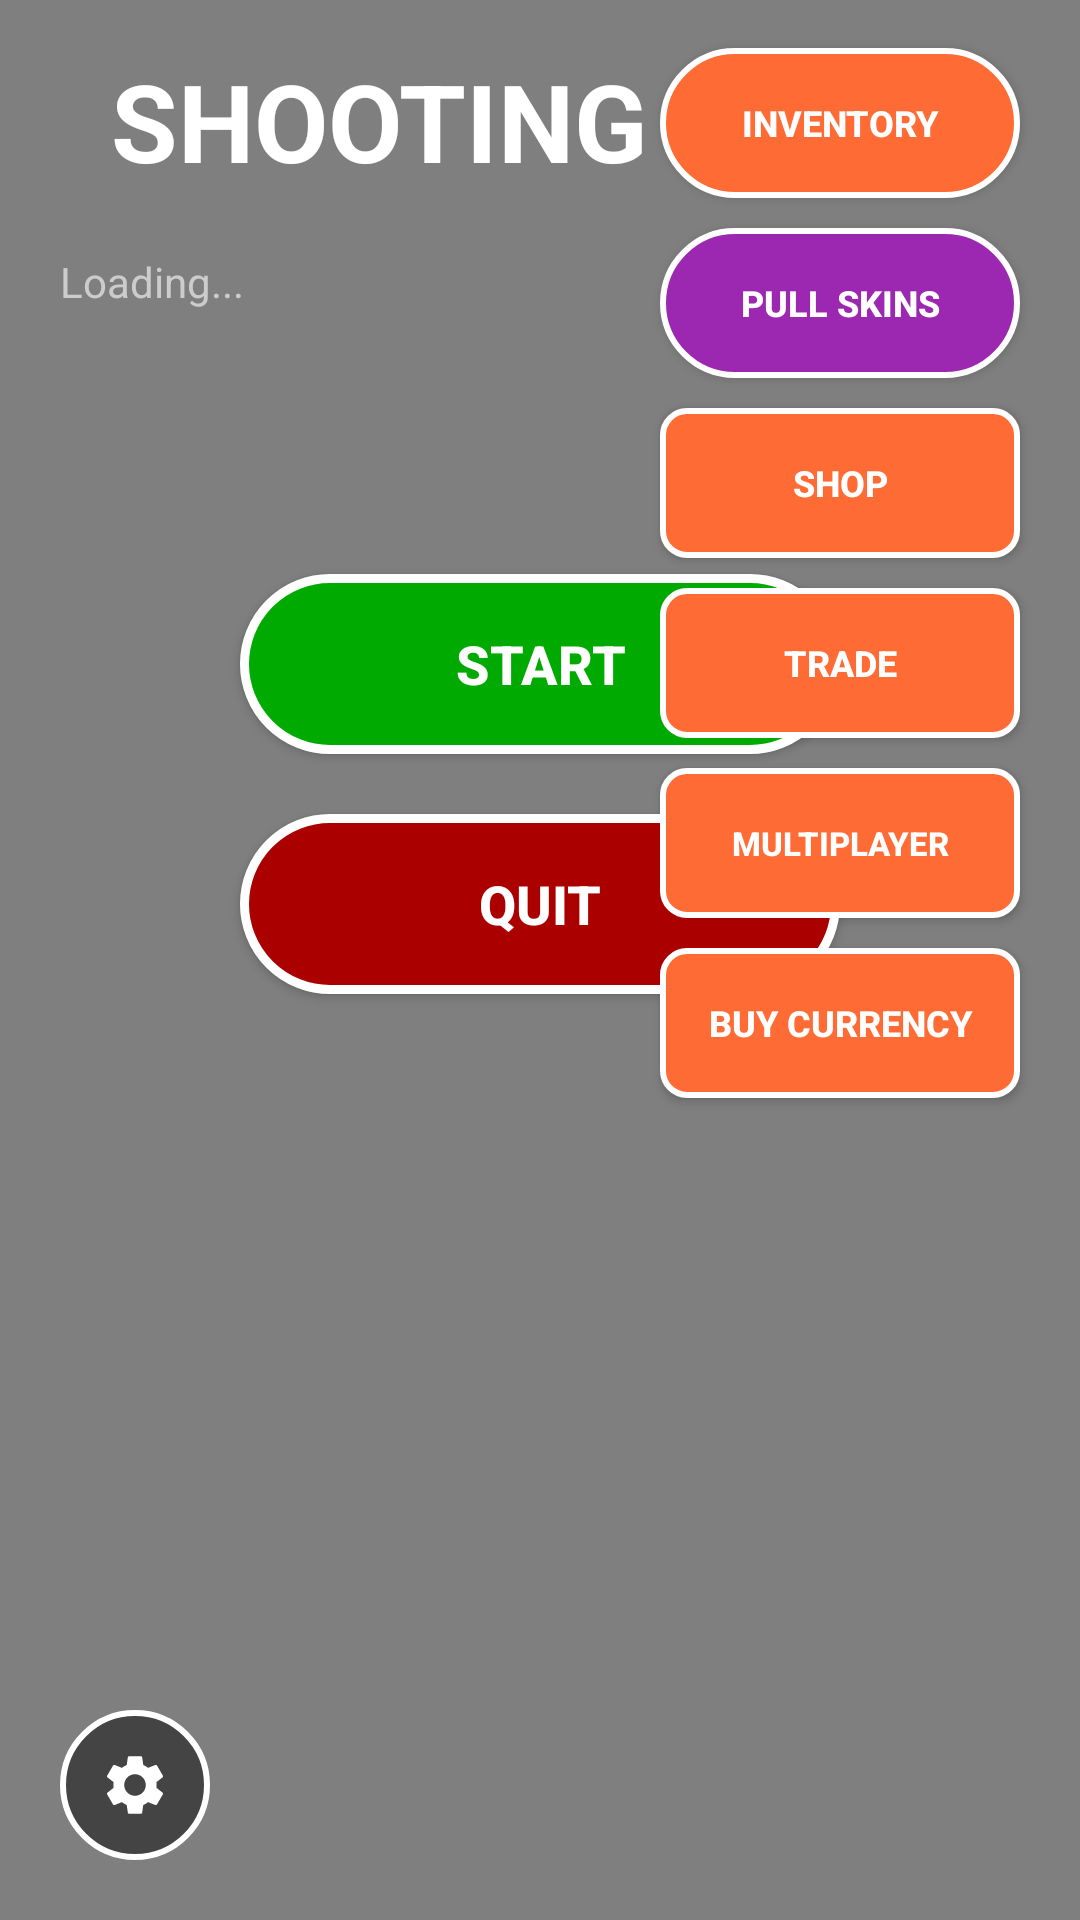

Named icons in this screenshot (1080px×1920px) and their centers, [x,y]:
Settings: [135,1785]
